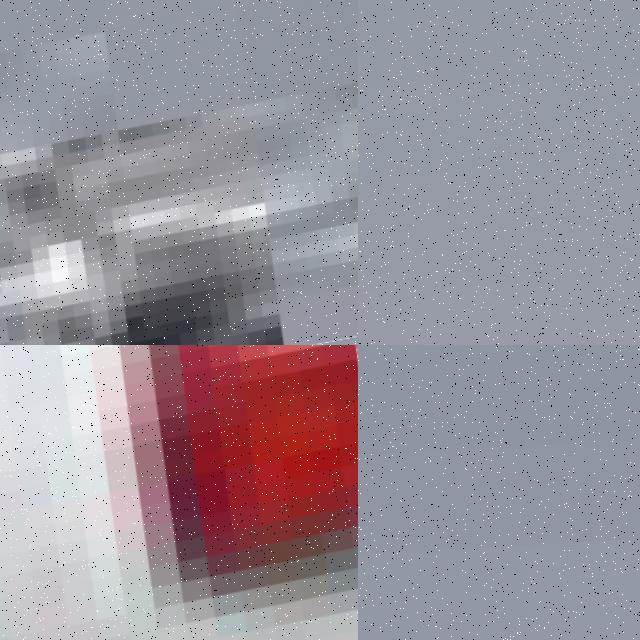drone: (0, 0, 358, 345), (0, 345, 358, 640)
